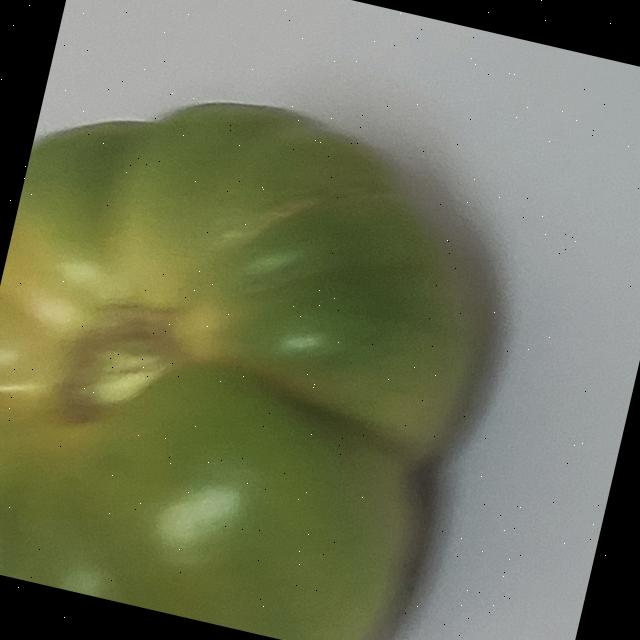tomato: (0, 0, 591, 640)
